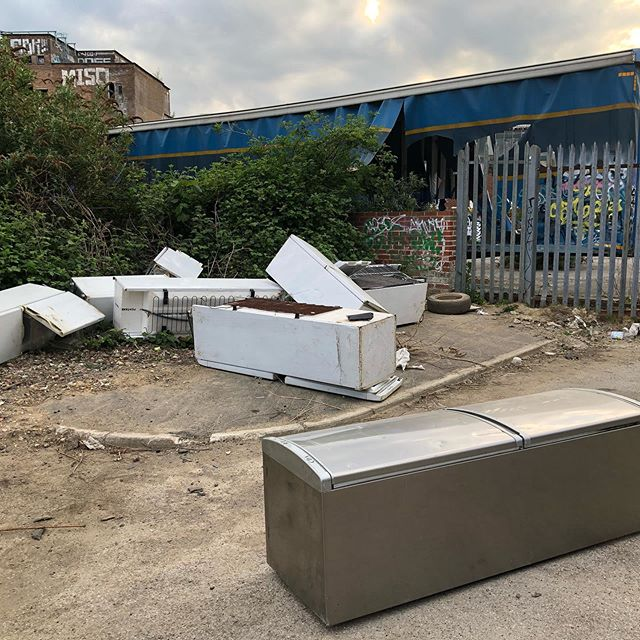building: (1, 35, 174, 129)
sky: (180, 1, 640, 103)
trash: (23, 222, 640, 614)
tree: (1, 90, 135, 269)
vegetation: (25, 144, 414, 270)
